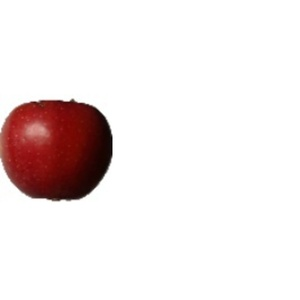maçã braeburn: (1, 92, 117, 206)
